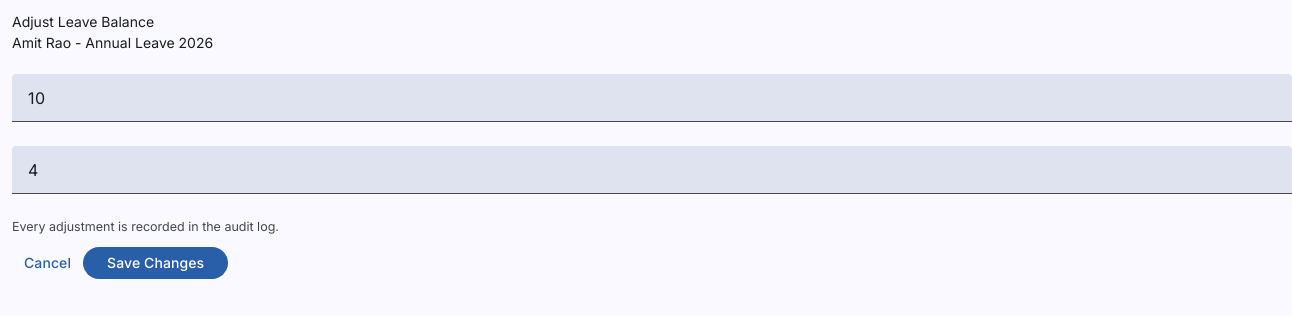
Test: AdjustBalanceDialogComponent › refuses , with a message and a disabled submit
Clear the 1st field named "entitlement": (652, 98) [28, 86, 1276, 110]
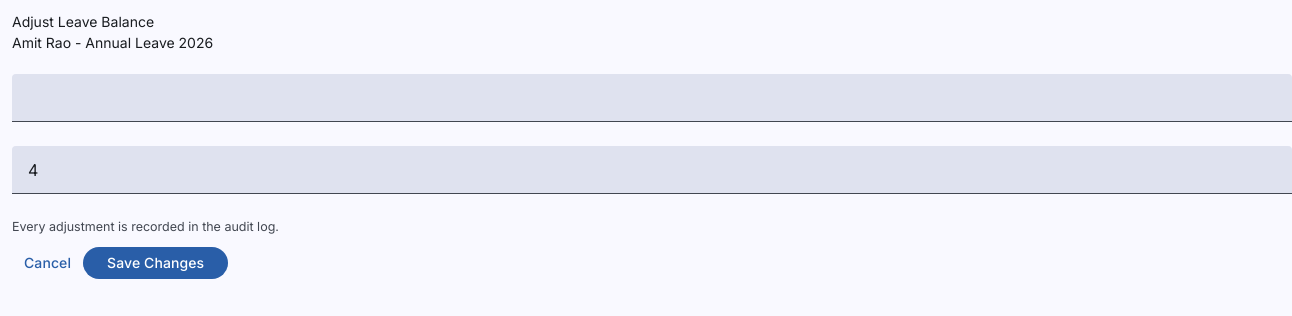
Submit the form
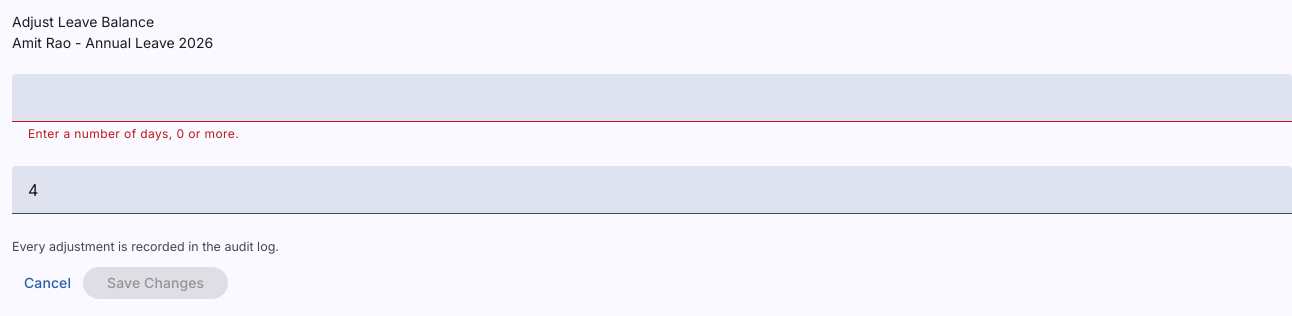
Expected: the text "Enter a number of days, 0 or more." is shown, [28, 126, 239, 141]
Expected: the submit button is disabled, [83, 267, 228, 299]
